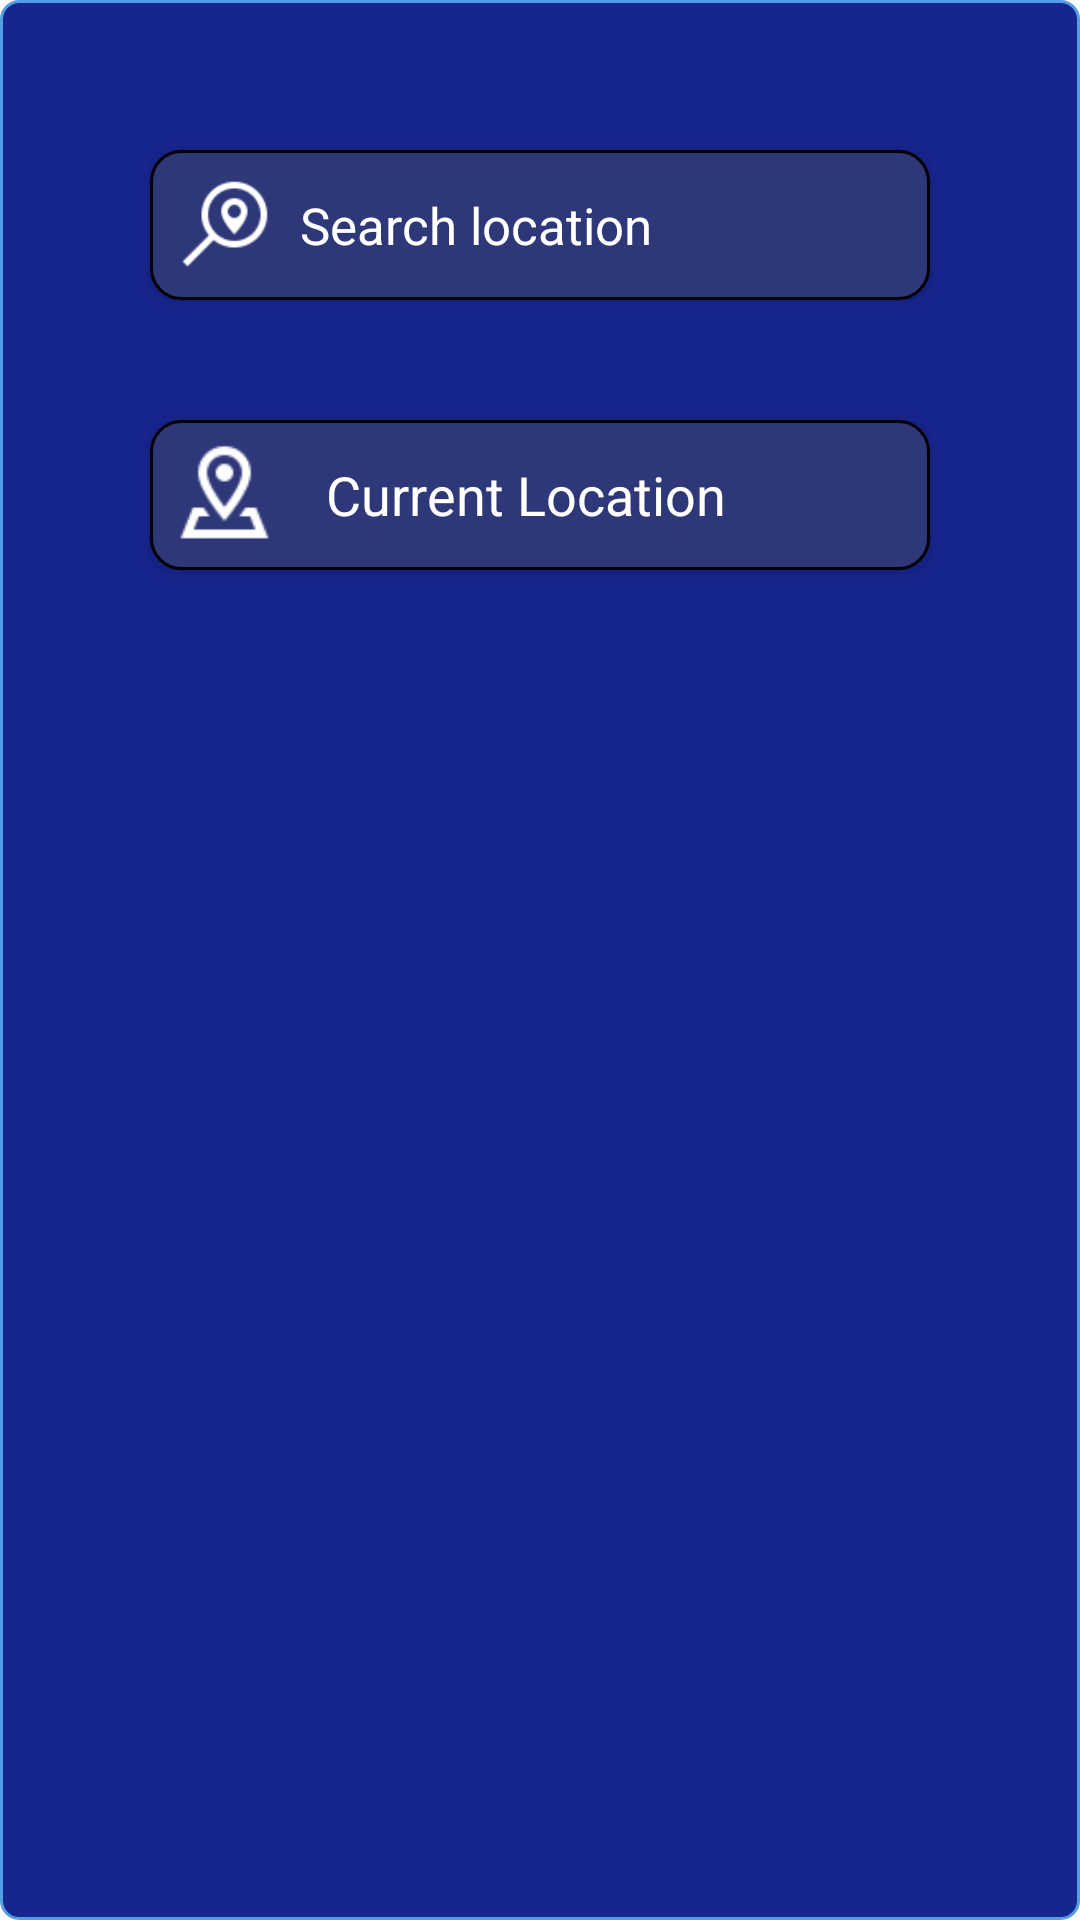

Icons on this 1080*1920 Android screen, each with the point to tap as (x=x, y=y):
address: (x=224, y=492)
